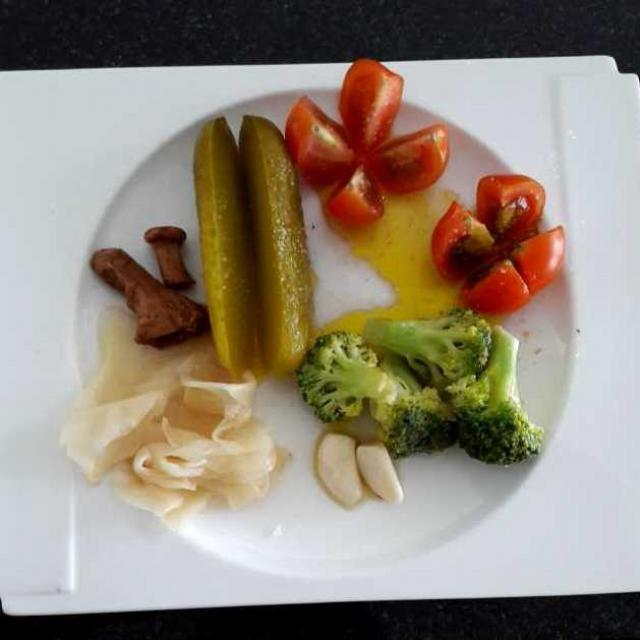broccoli: (306, 306, 552, 480)
cucumber-pickled: (166, 107, 325, 384)
garlic: (298, 442, 406, 515)
tomato: (267, 56, 584, 328)
